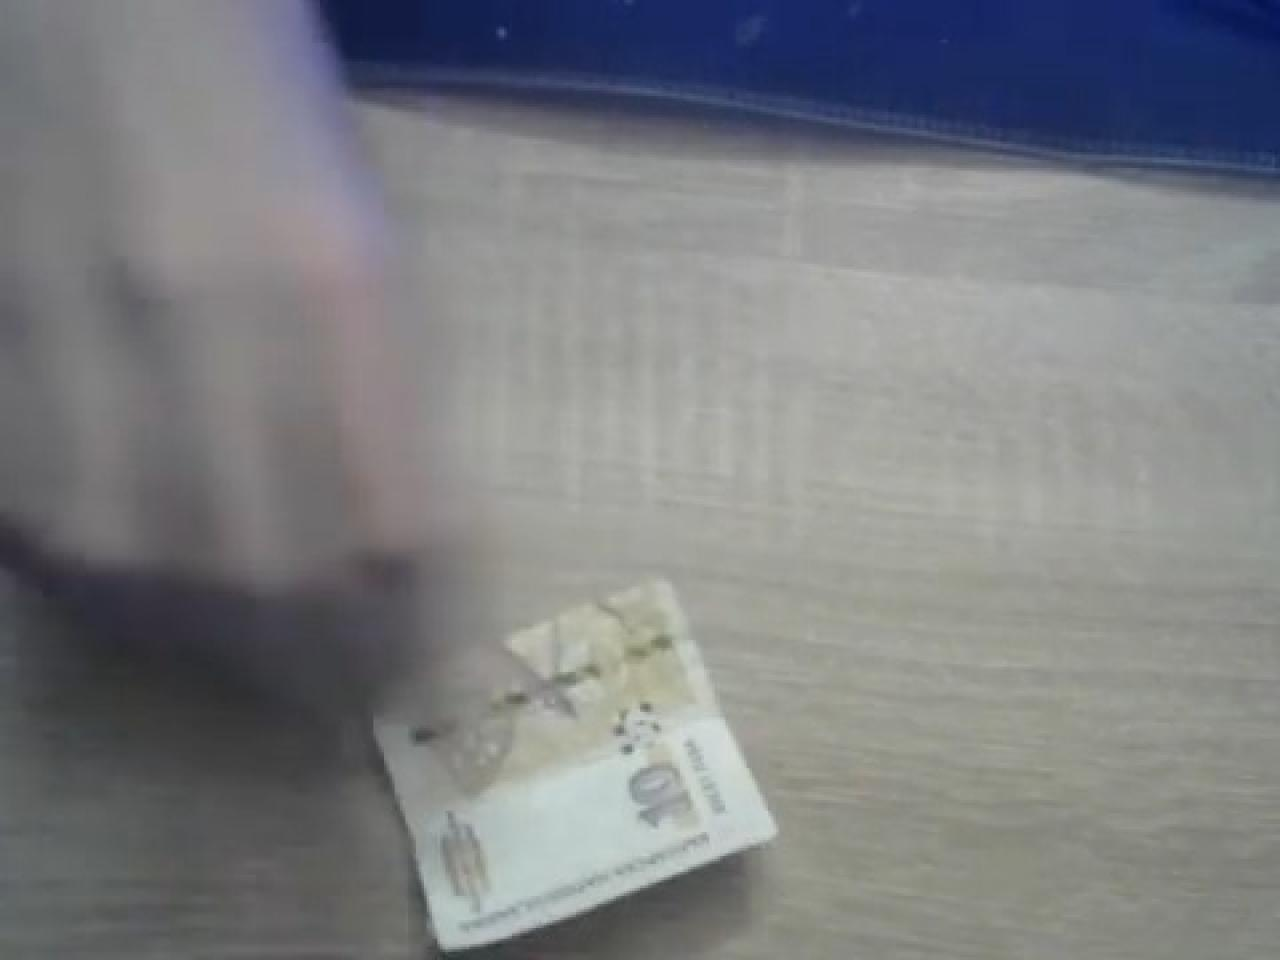10leva: (368, 569, 779, 955)
